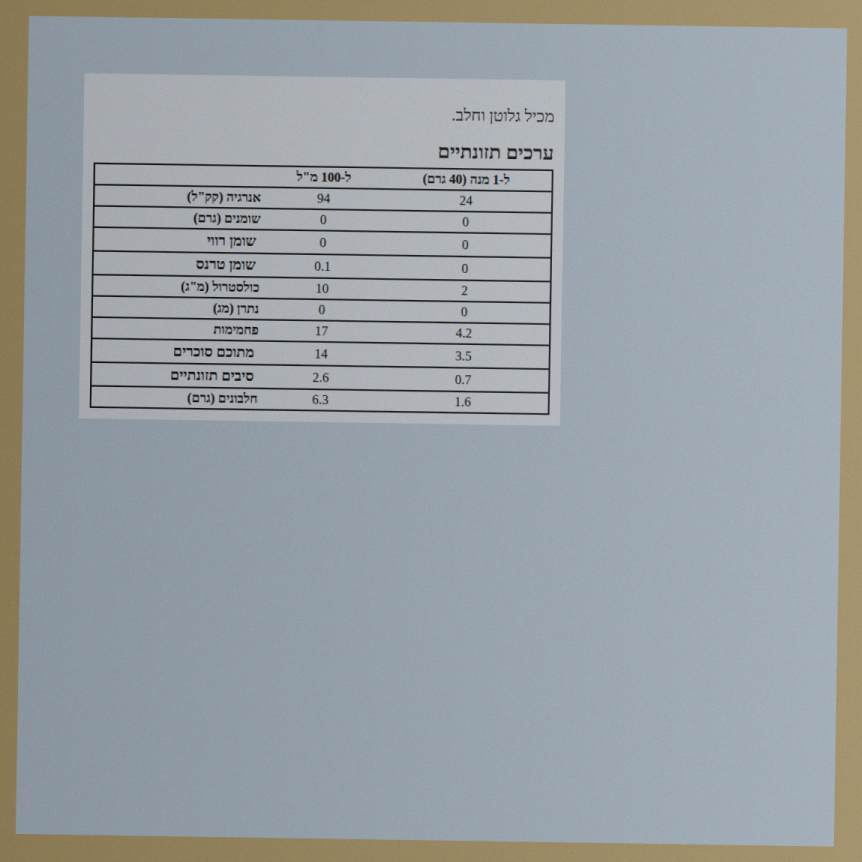carbs: (313, 322, 330, 340)
energy: (315, 190, 332, 207)
fat: (318, 211, 328, 228)
protein: (310, 391, 330, 408)
